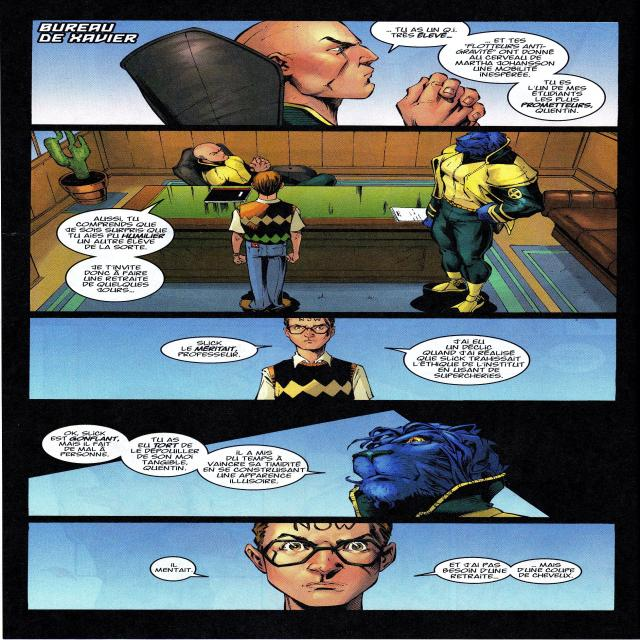comic_panel: (32, 130, 616, 312), (30, 408, 616, 516), (32, 20, 618, 126), (31, 523, 613, 610), (31, 318, 614, 399)
